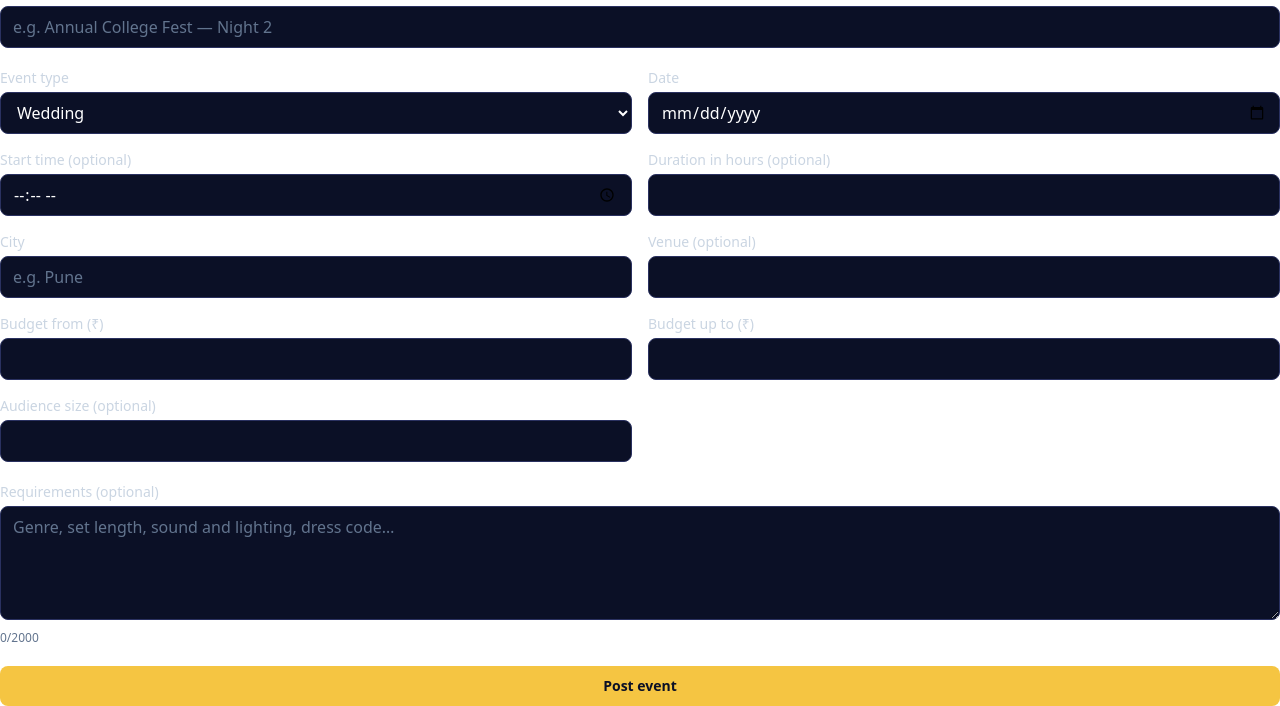
Scenario: EventForm › shows a validation message and does not submit an incomplete form
Click the button "Post event".
click(640, 686)  # box x1=0 y1=666 x2=1279 y2=705
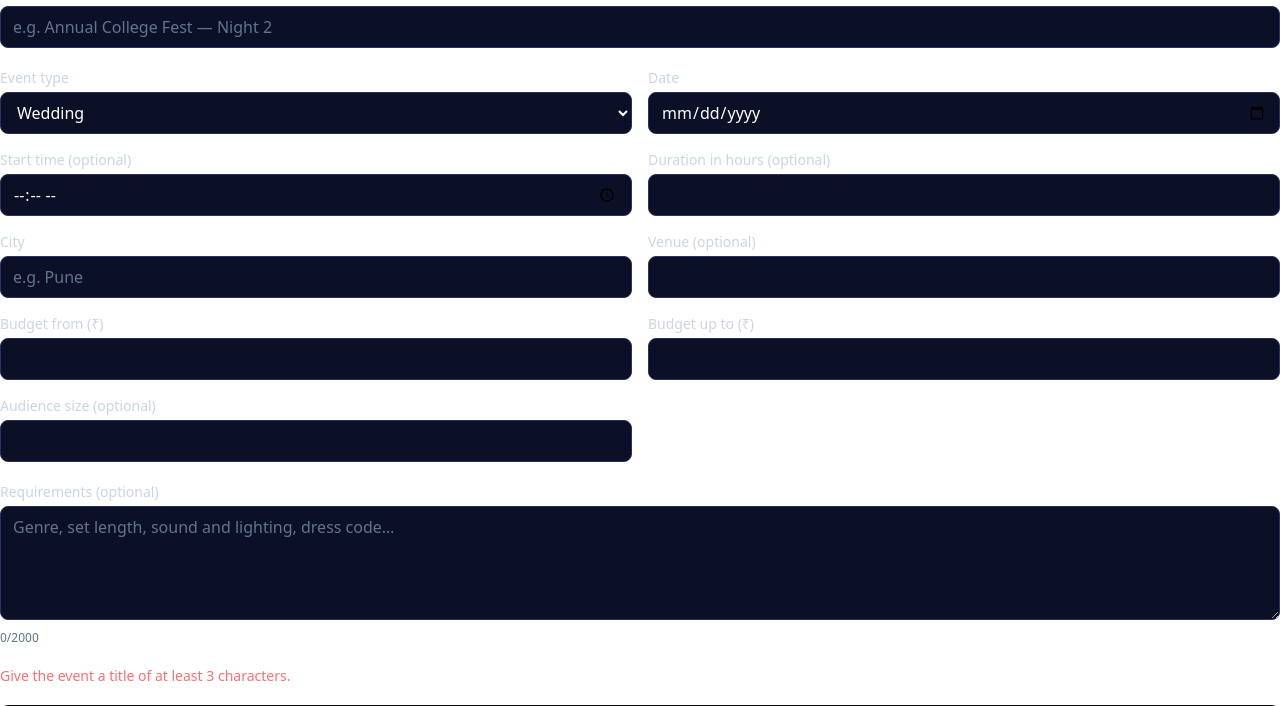
Check: the message shows "title", box x1=0 y1=666 x2=290 y2=685
